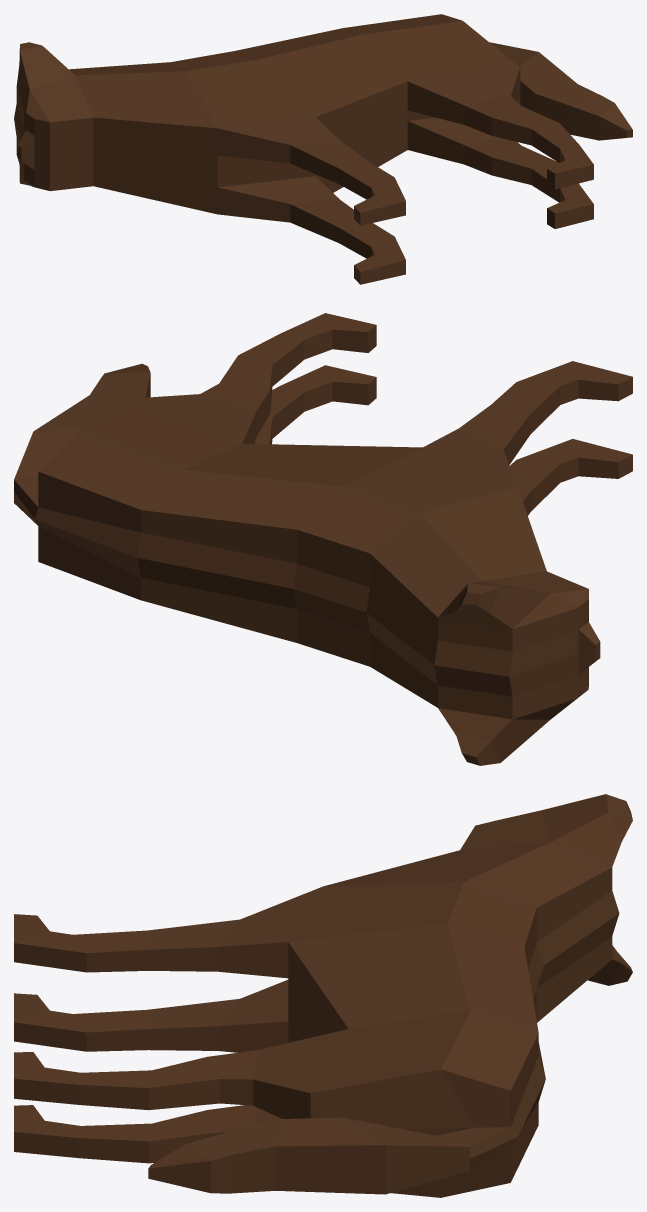
3 renders of one model, top to bottom at view 1: azimuth 30°, elevation 25°; view 2: azimuth 150°, elevation 25°; view 3: azimuth 270°, elevation 25°, orthographic. The views are drawn at different scales.
Parts seen in each view (by area): view 1: Plane; view 2: Plane; view 3: Plane.
Boxes of the visible parts, x1,y1,x2,y2 form: Plane: (14, 14, 632, 284); Plane: (14, 313, 632, 765); Plane: (14, 794, 632, 1197).
Bounding box in the file's own units: 540 × 142 × 444.
